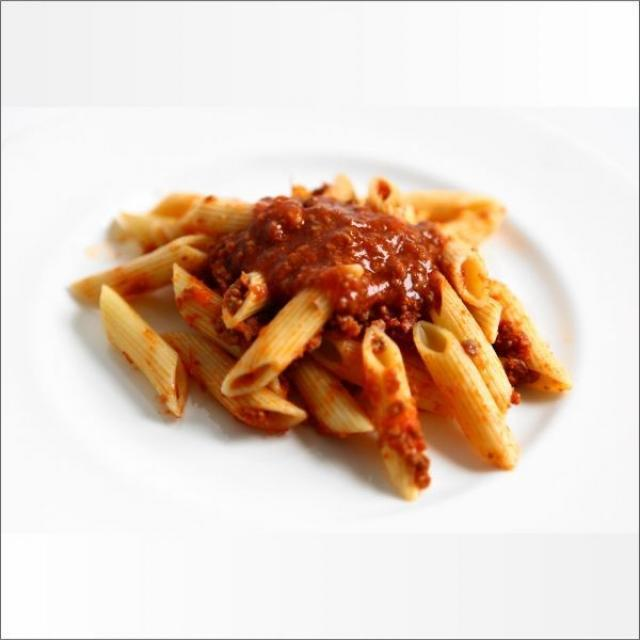Pasta al ragu: (96, 153, 575, 497)
